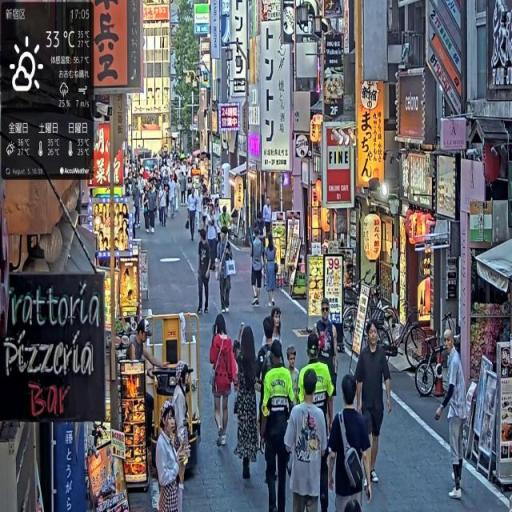person: (284, 368, 332, 512), (327, 373, 376, 512), (260, 338, 298, 512), (355, 323, 394, 489), (435, 329, 469, 503), (233, 323, 261, 488), (209, 314, 239, 449), (156, 401, 187, 511), (216, 227, 236, 314), (197, 228, 213, 316), (251, 229, 267, 309), (206, 202, 221, 278), (264, 235, 279, 306), (188, 188, 199, 239)
